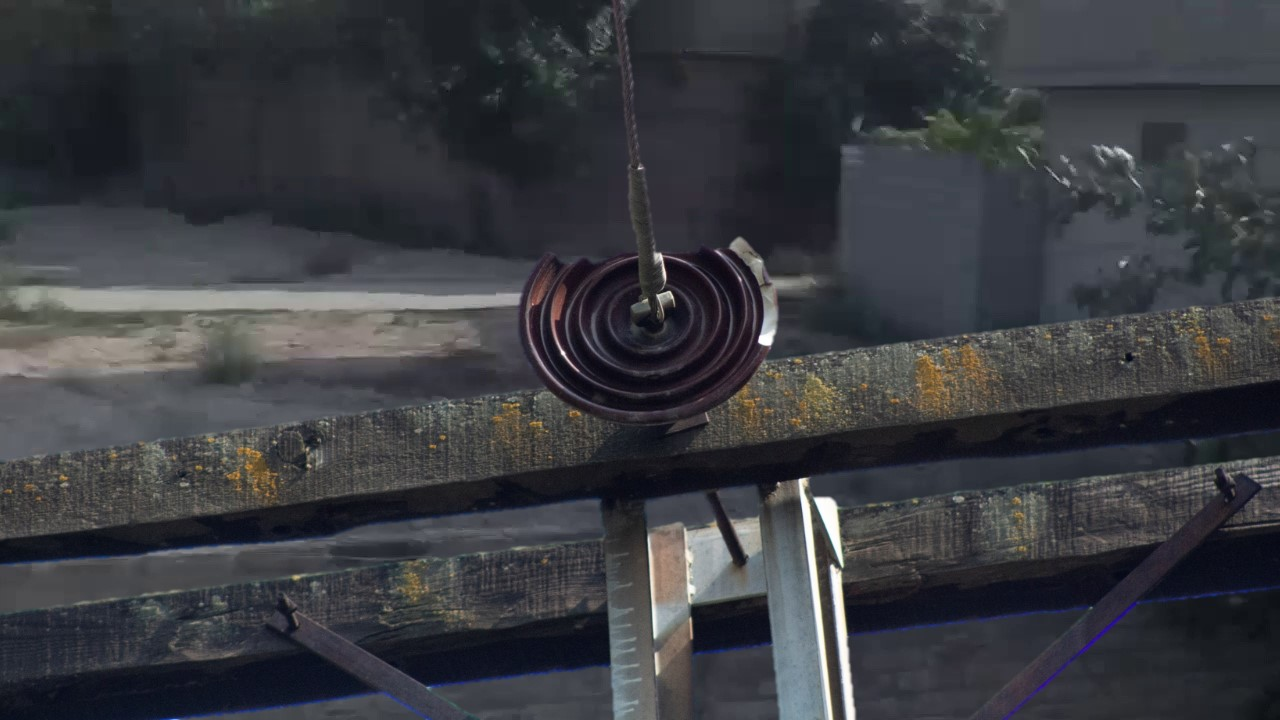defect_disc: (514, 225, 785, 439)
